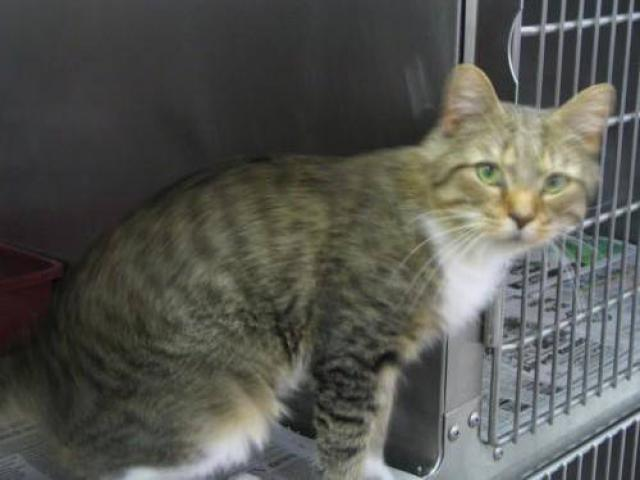cat: (25, 54, 616, 476)
